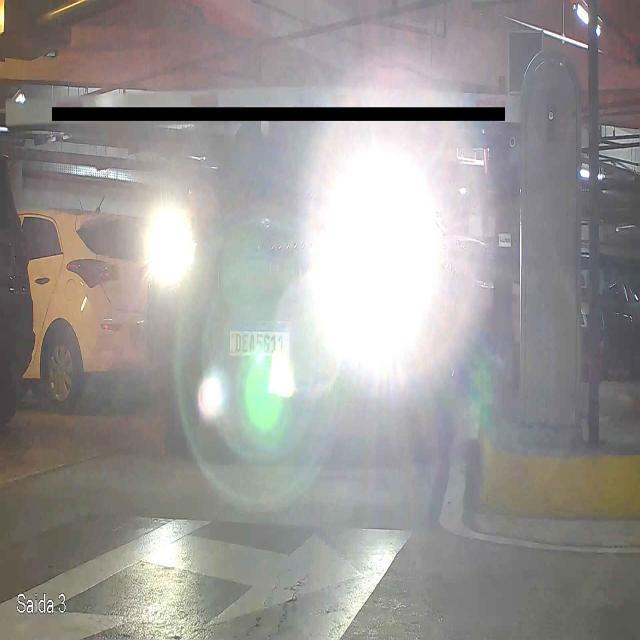mercosul_plate: (225, 320, 293, 358)
